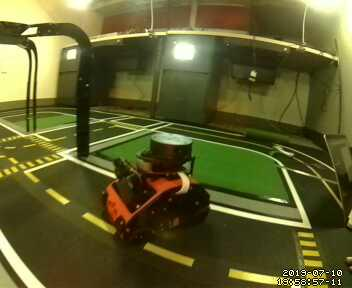pheeno: (100, 122, 213, 250)
